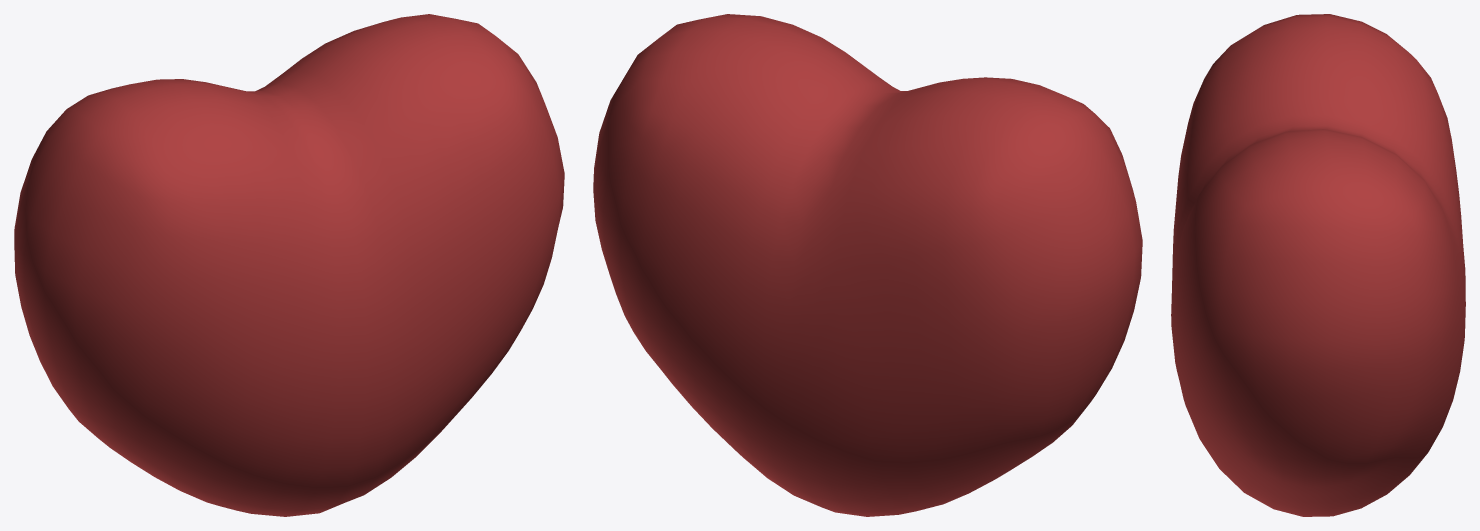
Rendered from Heart.fbx.
The picture shows the model from 3 angles, left to right: view 1: azimuth 30°, elevation 25°; view 2: azimuth 150°, elevation 25°; view 3: azimuth 270°, elevation 25°; orthographic projection. The views are drawn at different scales.
Visible parts, largest first — view 1: polySurface1; view 2: polySurface1; view 3: polySurface1.
Boxes of the visible parts, <box> form: polySurface1: <box>14,14,564,516</box>; polySurface1: <box>593,14,1142,516</box>; polySurface1: <box>1171,14,1465,516</box>.
Size of the model in its own units: 23.15 by 19.22 by 12.41.
